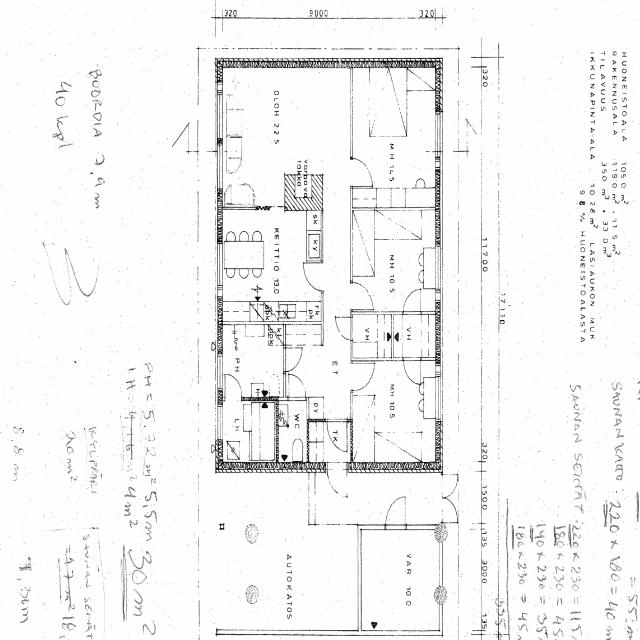door: (327, 462, 347, 499), (350, 158, 372, 187), (327, 419, 347, 450), (301, 262, 323, 290), (350, 364, 372, 391), (386, 497, 404, 530), (351, 283, 372, 309), (438, 474, 459, 499), (438, 498, 459, 522), (403, 287, 420, 315), (403, 358, 420, 384), (283, 348, 302, 371), (289, 373, 305, 400), (225, 373, 241, 400), (334, 318, 352, 340)
